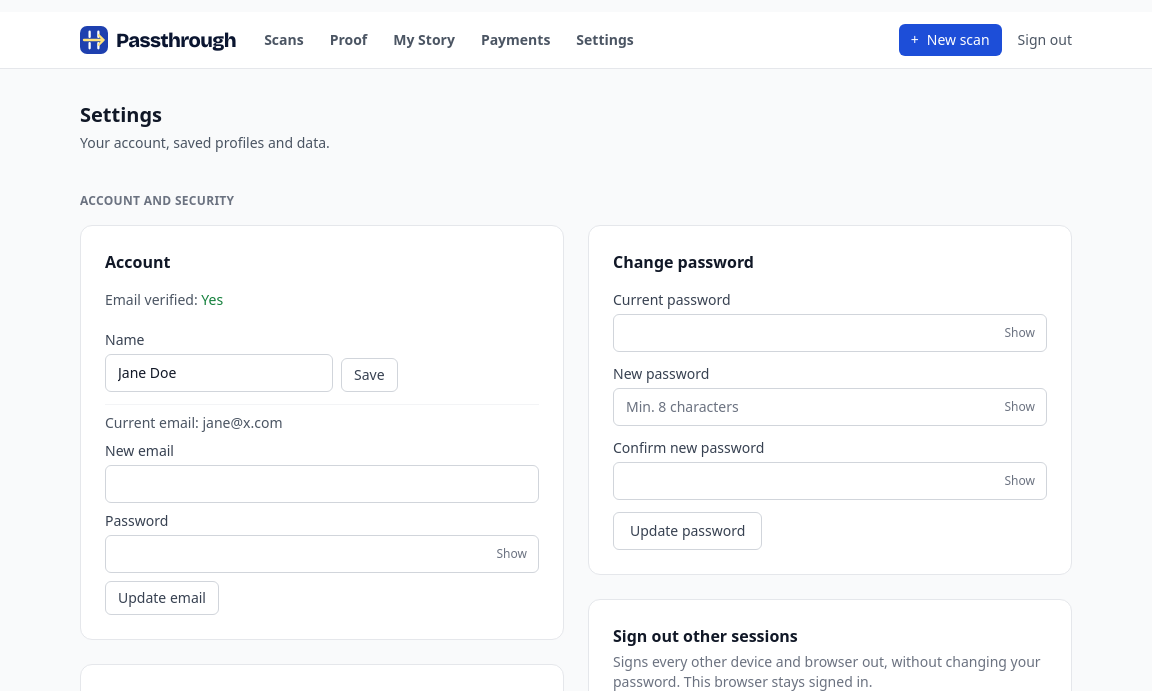
Scenario: Settings — name › saving puts the SERVER's saved name in the field, the cache and localStorage together — even if the follow-up refresh fails
The width and height of the screenshot is (1152, 691).
Replace the text in the field labelled "Name" with "  Jane Q Doe  " at (219, 373), box [105,354,333,392]
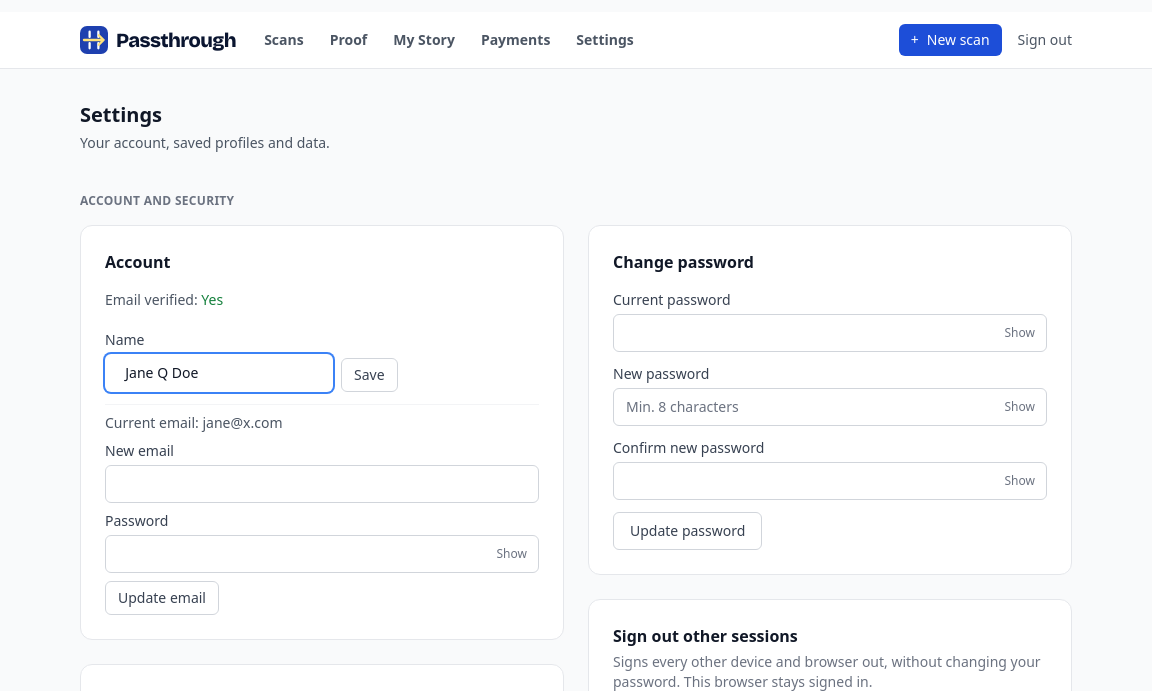
Click the button "Save" at (369, 375), box [341,358,398,392]
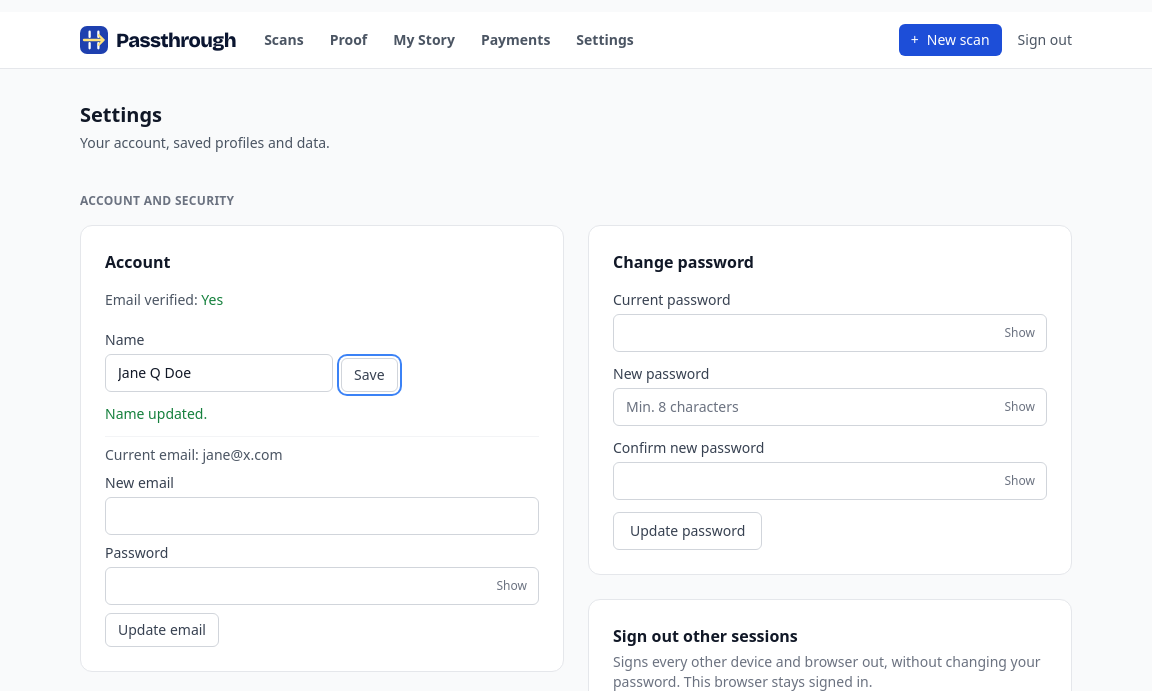
Result: the text "Name updated." is shown at [105,404,207,423]
